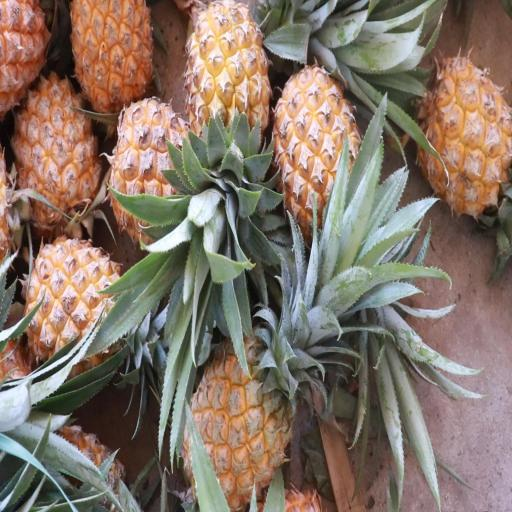Pineapple - v8 v1: (174, 319, 322, 512), (268, 64, 369, 250), (23, 229, 138, 387), (182, 0, 274, 197), (416, 47, 512, 229), (107, 92, 209, 261), (7, 59, 103, 236), (68, 0, 158, 130)
